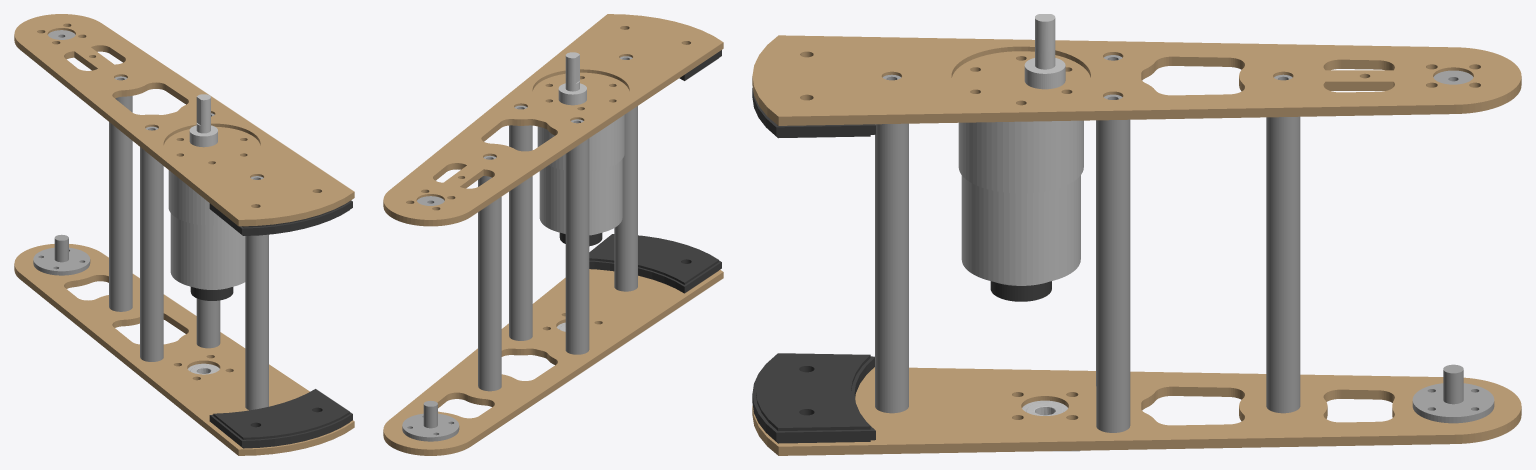
The model's file is UpperArm.dae.
The picture shows the model from 3 angles, left to right: view 1: azimuth 30°, elevation 25°; view 2: azimuth 150°, elevation 25°; view 3: azimuth 270°, elevation 25°; orthographic projection. The views are drawn at different scales.
Parts seen in each view (by area): view 1: UpperArm, UpperArm_005, UpperArm_004, UpperArm_001, UpperArm_006, UpperArm_002, UpperArm_003; view 2: UpperArm, UpperArm_005, UpperArm_004, UpperArm_001, UpperArm_006, UpperArm_002; view 3: UpperArm, UpperArm_005, UpperArm_004, UpperArm_001, UpperArm_006, UpperArm_002, UpperArm_003.
Boxes of the visible parts, x1,y1,x2,y2 form: UpperArm: (14,14,354,455); UpperArm_005: (109,76,268,410); UpperArm_004: (168,170,245,289); UpperArm_001: (209,200,352,448); UpperArm_006: (33,234,90,275); UpperArm_002: (189,94,217,147); UpperArm_003: (190,287,233,300); UpperArm: (383,14,723,455); UpperArm_005: (478,56,637,391); UpperArm_004: (537,115,624,235); UpperArm_001: (589,50,721,293); UpperArm_006: (402,400,459,441); UpperArm_002: (558,52,586,105); UpperArm: (752,35,1521,455); UpperArm_005: (875,55,1300,432); UpperArm_004: (958,120,1083,285); UpperArm_001: (752,88,875,443); UpperArm_006: (1412,364,1494,423); UpperArm_002: (1024,14,1065,89); UpperArm_003: (990,281,1051,301).
Size of the model in its own units: 56.58 by 226 by 136.
